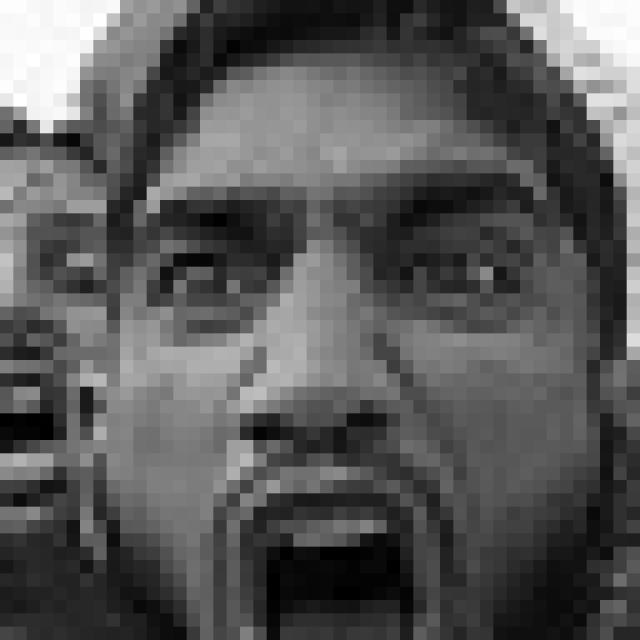angry: (137, 151, 559, 640)
